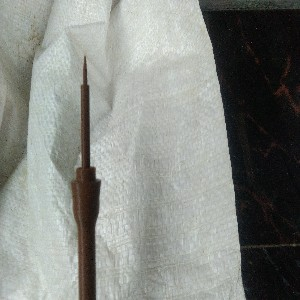solder: (69, 54, 102, 300)
